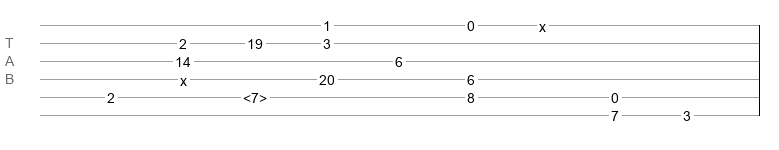0: (467, 18, 475, 28), (611, 90, 619, 100)
1: (323, 18, 331, 28)
14: (175, 54, 191, 64)
19: (247, 36, 263, 46)
2: (107, 90, 115, 100), (179, 36, 187, 46)
20: (319, 72, 335, 82)
3: (323, 36, 331, 46), (683, 108, 691, 118)
6: (395, 54, 403, 64), (467, 72, 475, 82)
7: (611, 108, 619, 118)
8: (467, 90, 475, 100)
harmonic: (243, 90, 267, 100)
x: (180, 73, 187, 81), (539, 19, 546, 27)
